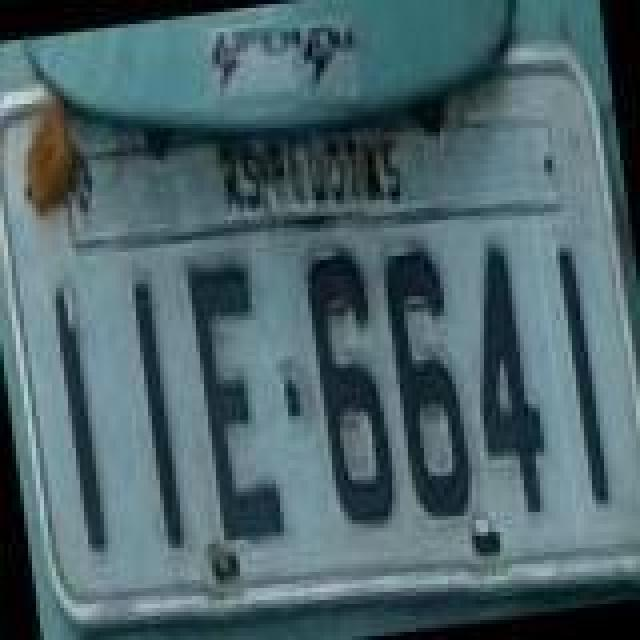1: (48, 282, 112, 558), (126, 276, 186, 556), (556, 244, 612, 508)
4: (454, 242, 554, 526)
6: (300, 246, 404, 538), (378, 242, 478, 526)
E: (184, 254, 288, 546)
